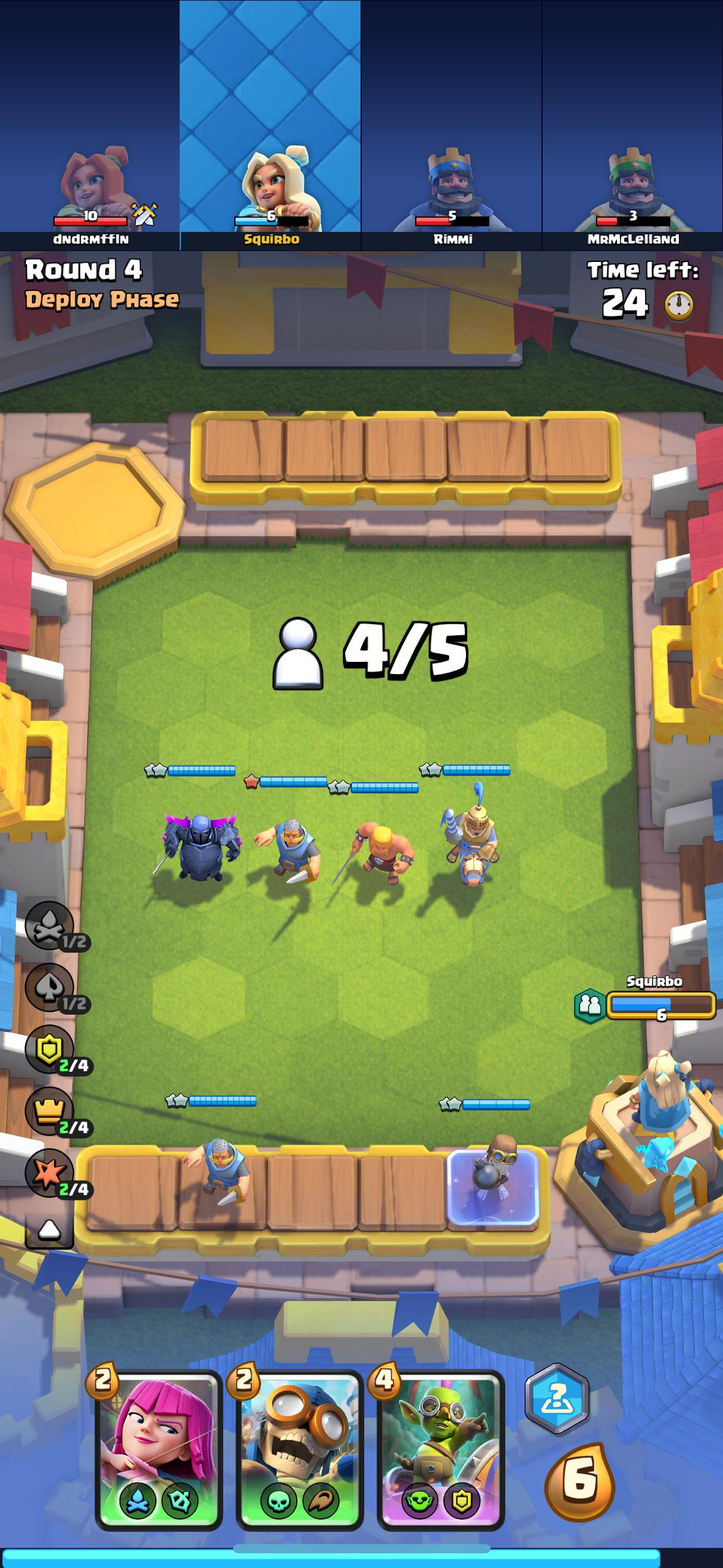barbarian: (347, 814, 417, 894)
bomber: (465, 1129, 520, 1203)
hand-archer: (92, 1372, 220, 1530)
hand-bomber: (239, 1372, 361, 1528)
hand-machine: (382, 1372, 501, 1526)
knight: (252, 806, 324, 894), (184, 1129, 251, 1212)
pekka: (158, 806, 245, 887)
prince: (436, 778, 502, 889)
